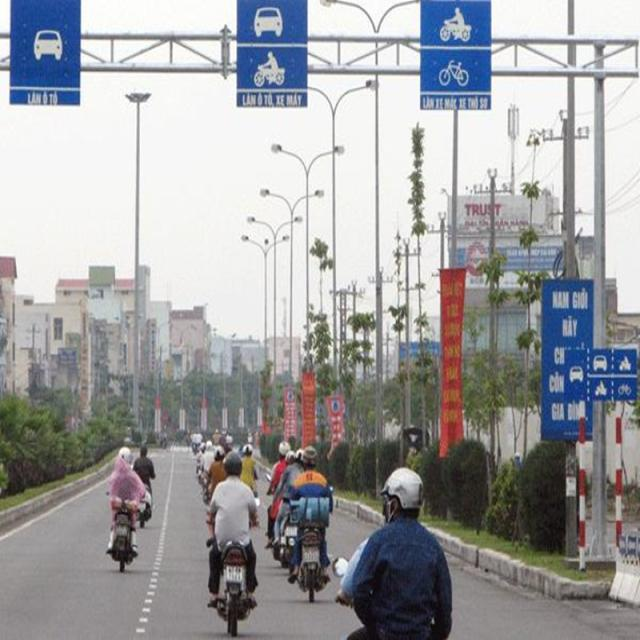motobyte: (205, 438, 262, 639), (291, 442, 337, 605), (105, 441, 142, 576), (135, 433, 162, 528)
